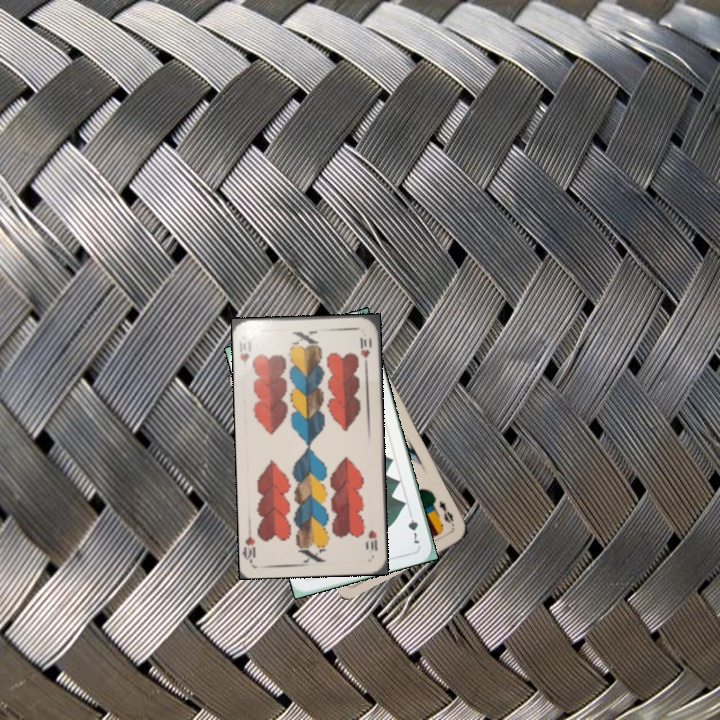EO: (435, 497, 456, 526)
G7: (404, 507, 422, 546)
H10: (362, 526, 380, 555), (235, 336, 252, 365)
